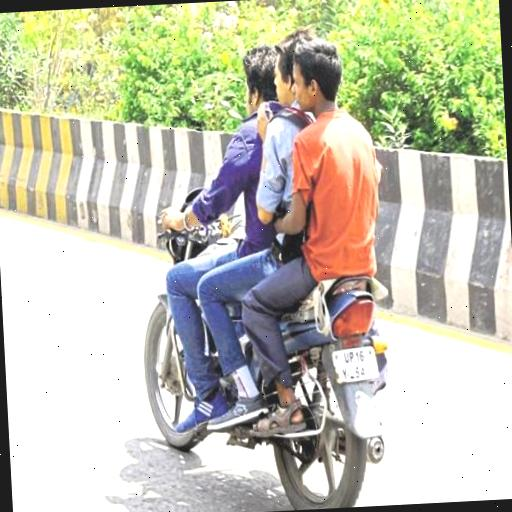no helmet: (224, 38, 288, 140)
triple riding: (196, 28, 392, 376)
